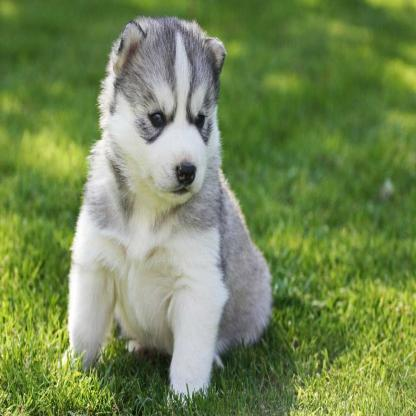husky: (65, 15, 270, 404)
